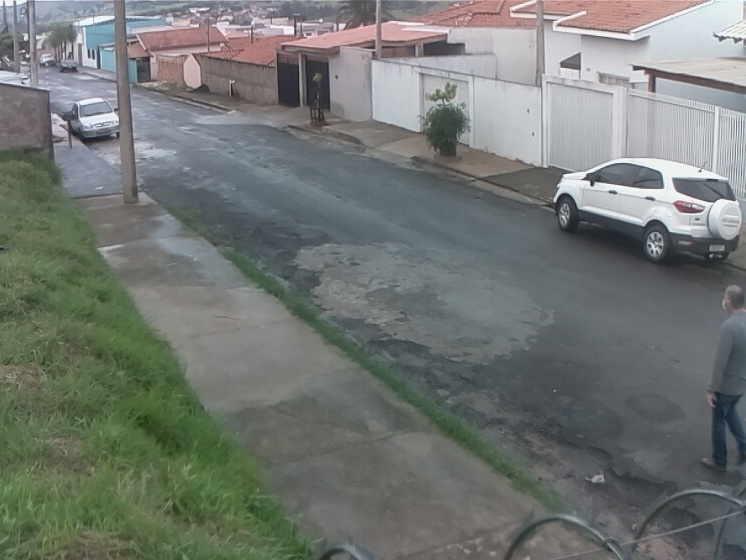person: (696, 282, 746, 475)
